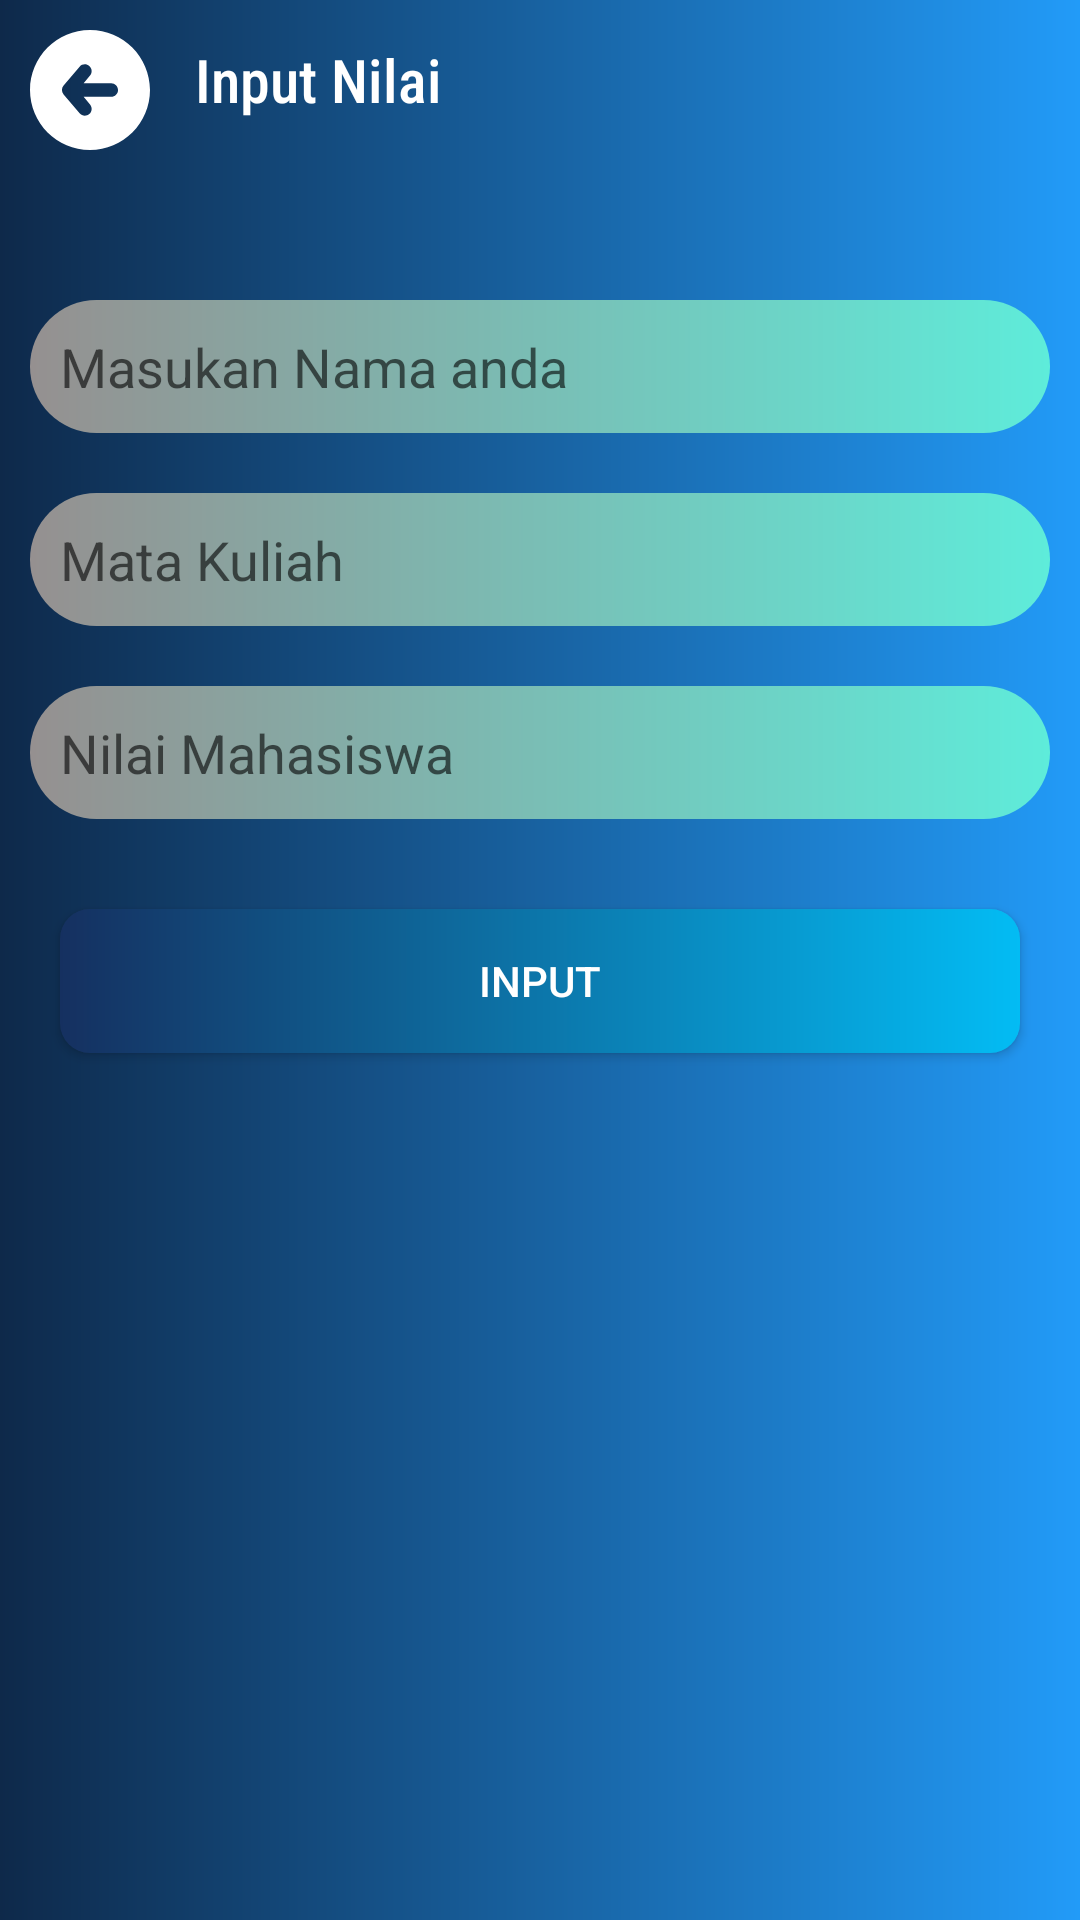

Locate icon controls on the screen. Image size 1080*1920, boxes as (x1, y1, x2, y2).
back: (30, 30, 150, 150)
